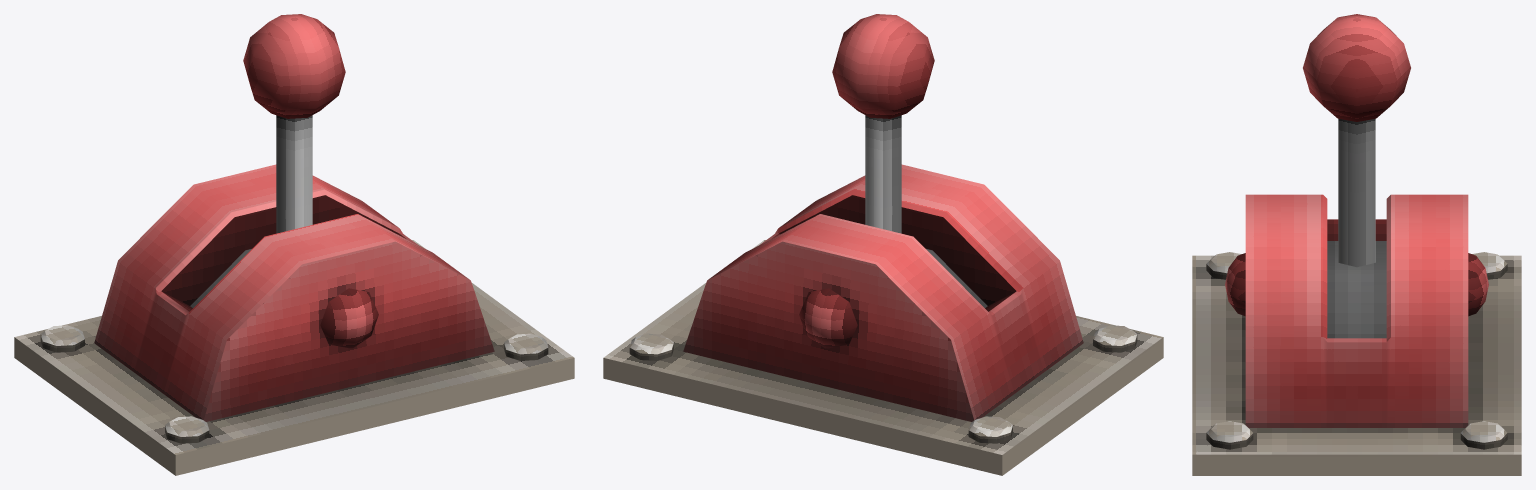
The model's file is Lever Switch Red.fbx.
3 renders of one model, left to right at view 1: azimuth 30°, elevation 25°; view 2: azimuth 150°, elevation 25°; view 3: azimuth 270°, elevation 25°, orthographic. The views are drawn at different scales.
Visible parts, largest first — view 1: Switchr, Leverr; view 2: Switchr, Leverr; view 3: Switchr, Leverr.
Part boxes in pixels (x1,y1,x2,y2): Switchr: [14, 164, 574, 475]; Leverr: [243, 14, 345, 233]; Switchr: [603, 164, 1163, 475]; Leverr: [832, 14, 934, 233]; Switchr: [1192, 194, 1521, 475]; Leverr: [1303, 14, 1410, 267].
Bounding box in the file's own units: 1 × 0.8383 × 0.7.
